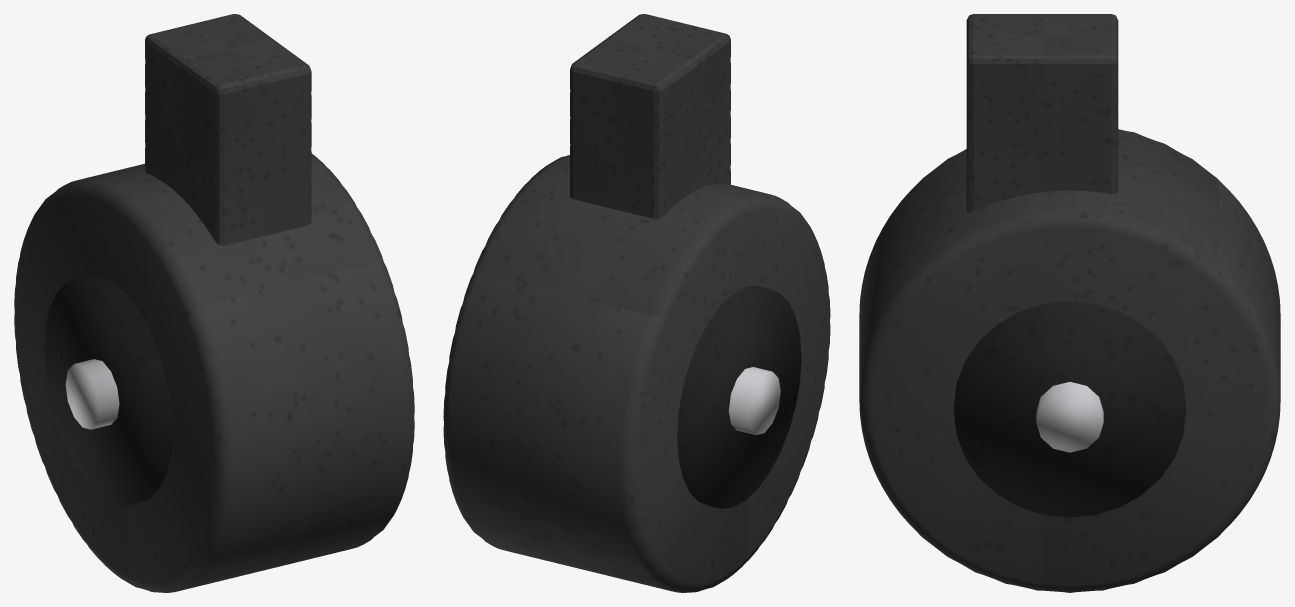
File: mag_drum_light.glb
The picture shows the model from 3 angles, left to right: view 1: azimuth 30°, elevation 25°; view 2: azimuth 150°, elevation 25°; view 3: azimuth 270°, elevation 25°; orthographic projection. The views are drawn at different scales.
Visible parts, largest first — view 1: drum, neck, cap_l, wind; view 2: drum, neck, cap_l, wind; view 3: drum, cap_l, neck, wind.
Part boxes in pixels (x1,y1,x2,y2): drum: [14, 153, 414, 592]; neck: [145, 14, 311, 245]; cap_l: [44, 275, 172, 505]; wind: [65, 359, 119, 429]; drum: [443, 155, 830, 592]; neck: [570, 14, 730, 218]; cap_l: [677, 286, 801, 508]; wind: [728, 367, 780, 434]; drum: [859, 129, 1280, 592]; cap_l: [953, 301, 1186, 517]; neck: [966, 14, 1118, 212]; wind: [1036, 382, 1103, 452].
Size of the model in its own units: 0.066 by 0.1236 by 0.0917.
3 materials, 2 textured.
